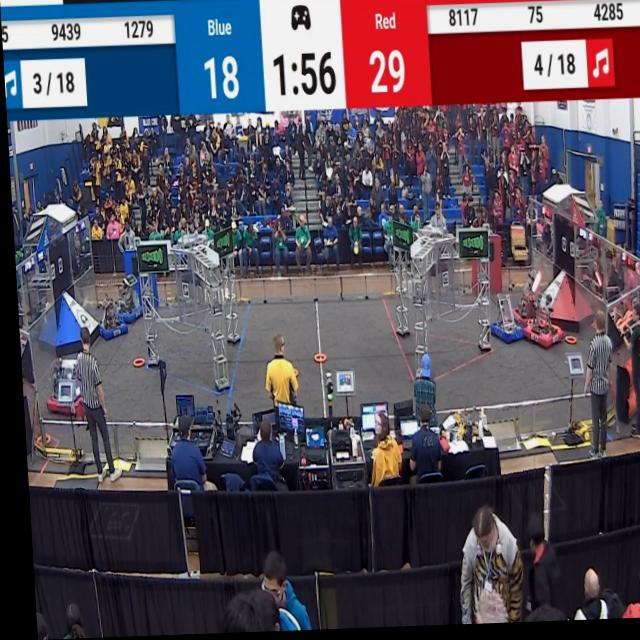Robot: (515, 275, 569, 358), (38, 350, 80, 417), (511, 264, 546, 332), (485, 290, 518, 351), (94, 288, 124, 342), (111, 273, 139, 325)
